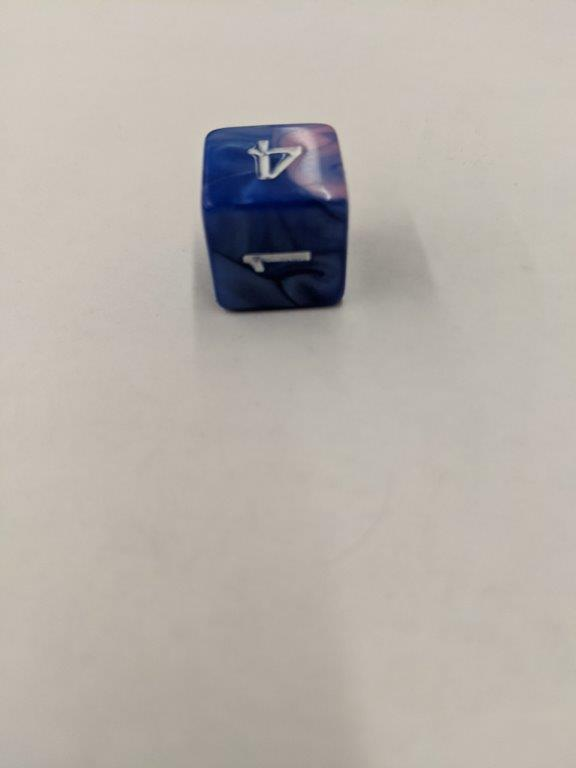d6-4: (201, 122, 352, 317)
